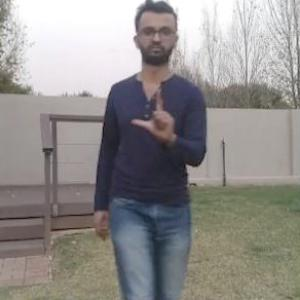land_hand: (130, 82, 178, 145)
